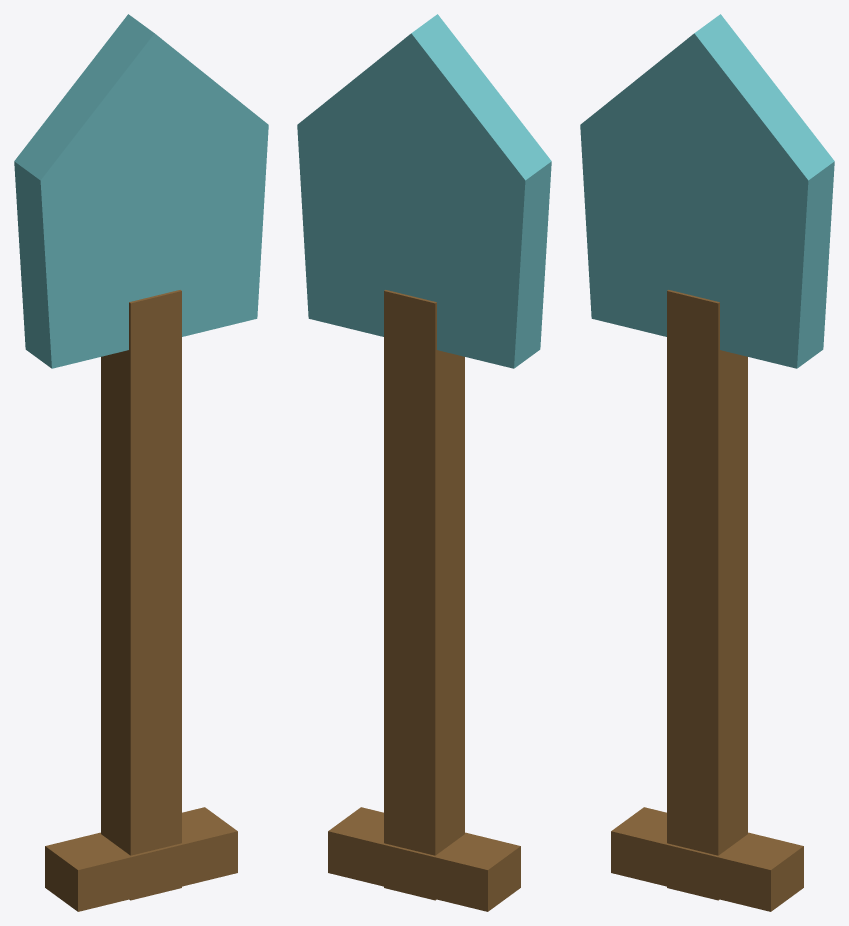
File: shovel_dia.fbx
3 views of the same model, side by side, from view 1: azimuth 30°, elevation 25°; view 2: azimuth 150°, elevation 25°; view 3: azimuth 330°, elevation 25° (orthographic).
Visible parts, largest first — view 1: shovel_dia; view 2: shovel_dia; view 3: shovel_dia.
Part boxes in pixels (bbox=[...]): shovel_dia: bbox=[14, 14, 268, 911]; shovel_dia: bbox=[297, 14, 551, 911]; shovel_dia: bbox=[580, 14, 834, 911].
Bounding box in the file's own units: 0.6 × 2.16 × 0.15.
